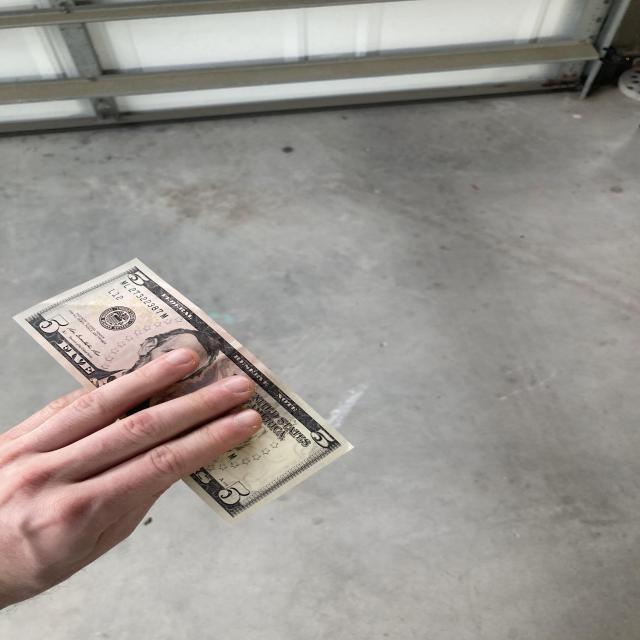five: (12, 256, 359, 530)
